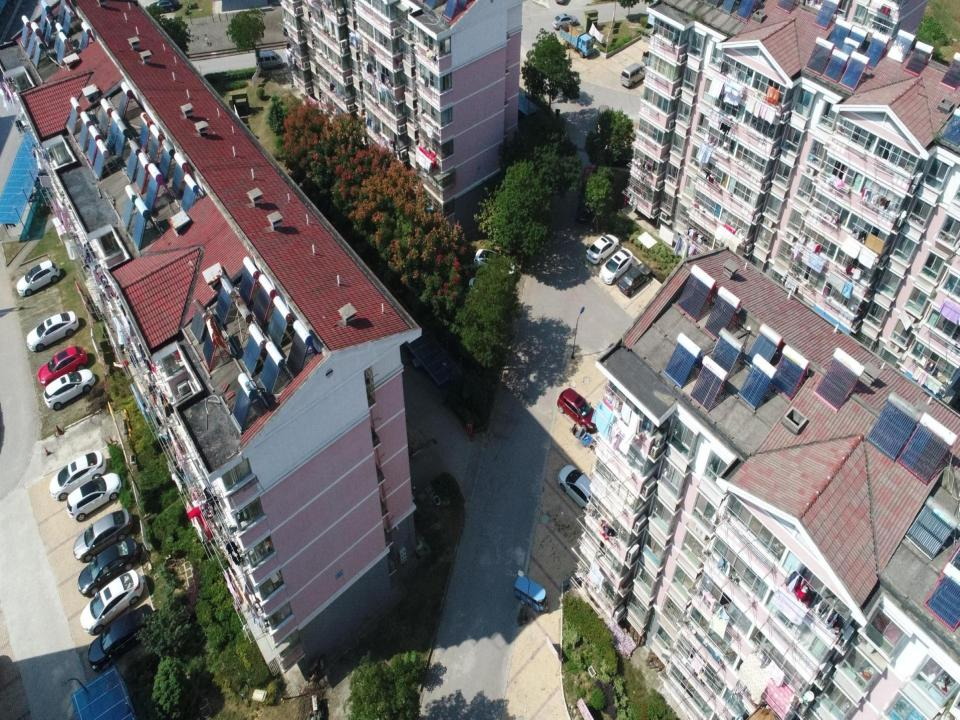car: (88, 604, 157, 671), (80, 569, 144, 636), (77, 538, 139, 596), (72, 508, 133, 563), (48, 450, 107, 502), (66, 472, 122, 522), (43, 368, 96, 410), (558, 464, 603, 512), (38, 345, 88, 388), (27, 311, 79, 352), (17, 260, 60, 296), (473, 248, 516, 282), (600, 248, 634, 285), (616, 262, 653, 296), (586, 233, 619, 265), (552, 13, 578, 30)
truck: (559, 23, 594, 58)
van: (620, 62, 648, 88), (252, 50, 283, 70)
